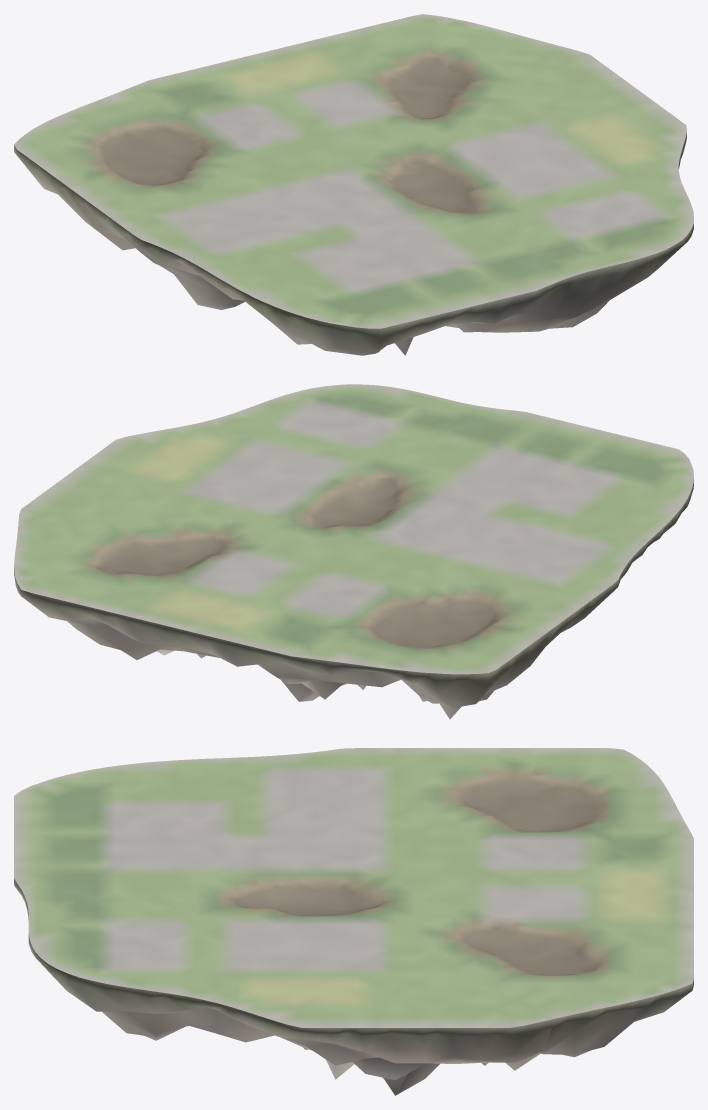
Rendered from SKY-081.rock.glb.
3 views of the same model, one above another, from view 1: azimuth 30°, elevation 25°; view 2: azimuth 150°, elevation 25°; view 3: azimuth 270°, elevation 25° (orthographic). The views are drawn at different scales.
Visible parts, largest first — view 1: deck-col, rock; view 2: deck-col, rock; view 3: deck-col, rock.
Boxes of the visible parts, x1,y1,x2,y2 form: deck-col: (14,14,693,328); rock: (14,132,693,355); deck-col: (14,384,693,674); rock: (14,479,693,719); deck-col: (14,748,693,1027); rock: (14,878,693,1095).
Bounding box in the file's own units: 133 × 42.75 × 137.
